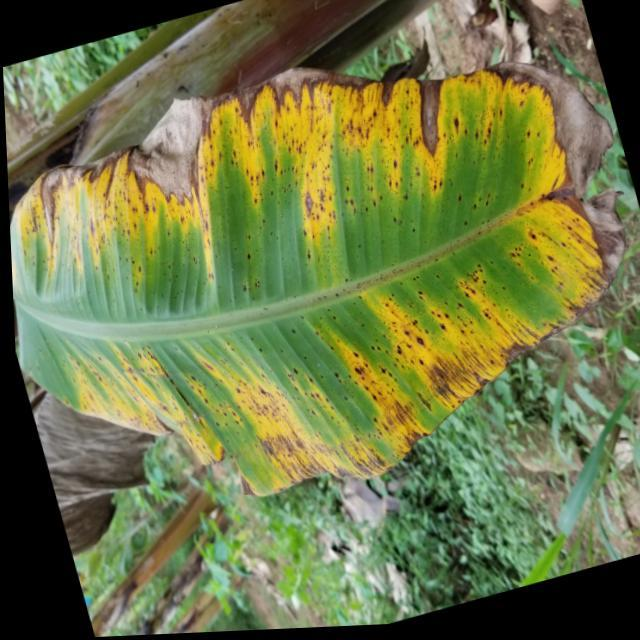Early_rust: (0, 63, 640, 502)
